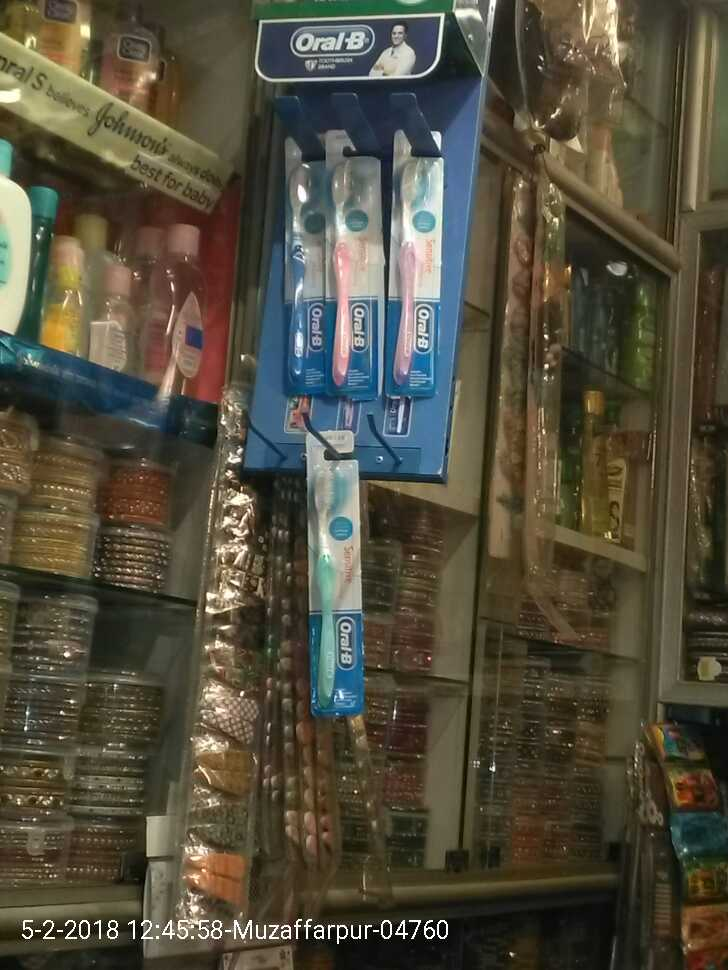oralb: (300, 429, 371, 718), (326, 123, 386, 397), (385, 133, 448, 393), (277, 121, 331, 393)
